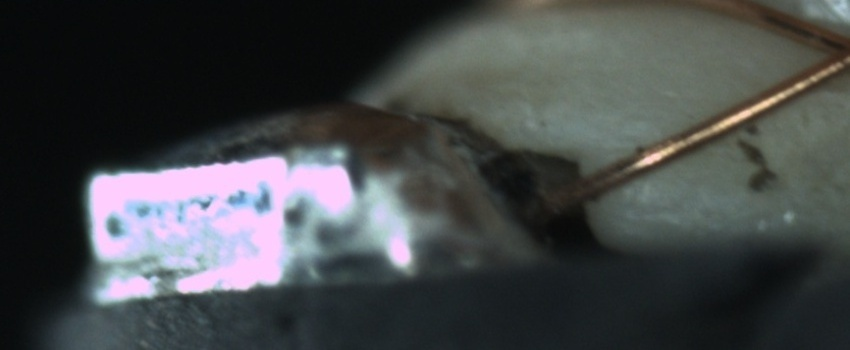CL: (800, 10, 850, 86)
